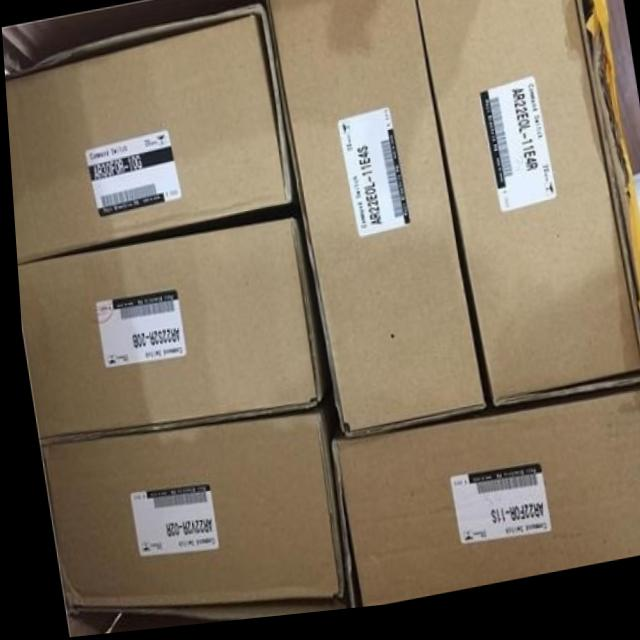box: (263, 0, 481, 443), (414, 0, 640, 419), (4, 9, 286, 263), (327, 402, 640, 615), (14, 224, 313, 440), (33, 415, 337, 624)
